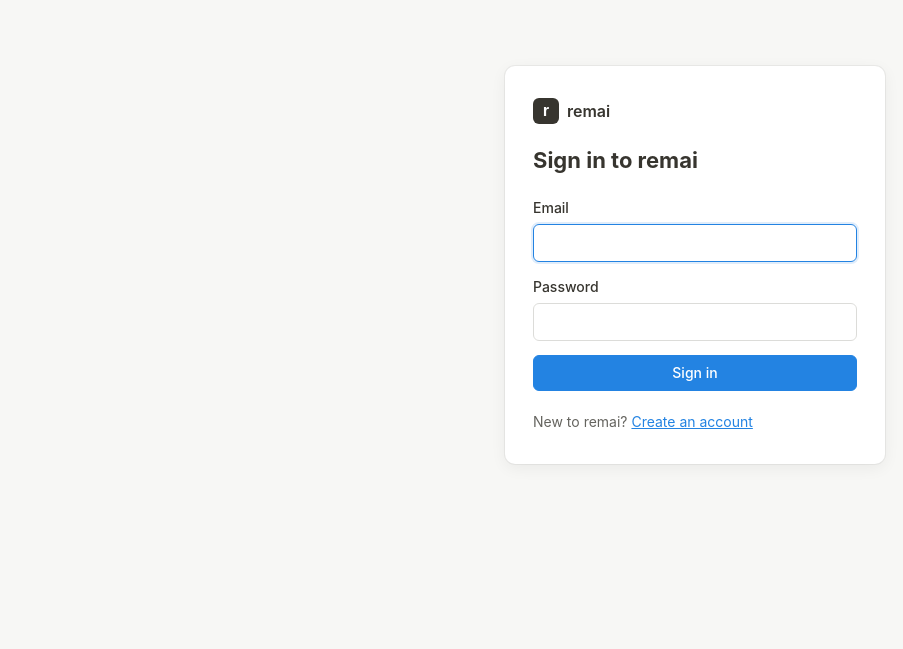
Test: Addressable pages › Wrong credentials keep the user on the sign-in screen with the server message
The width and height of the screenshot is (903, 649).
Type "ada@example.com" into the field labelled "Email" at (695, 243), box [533,224,857,262]
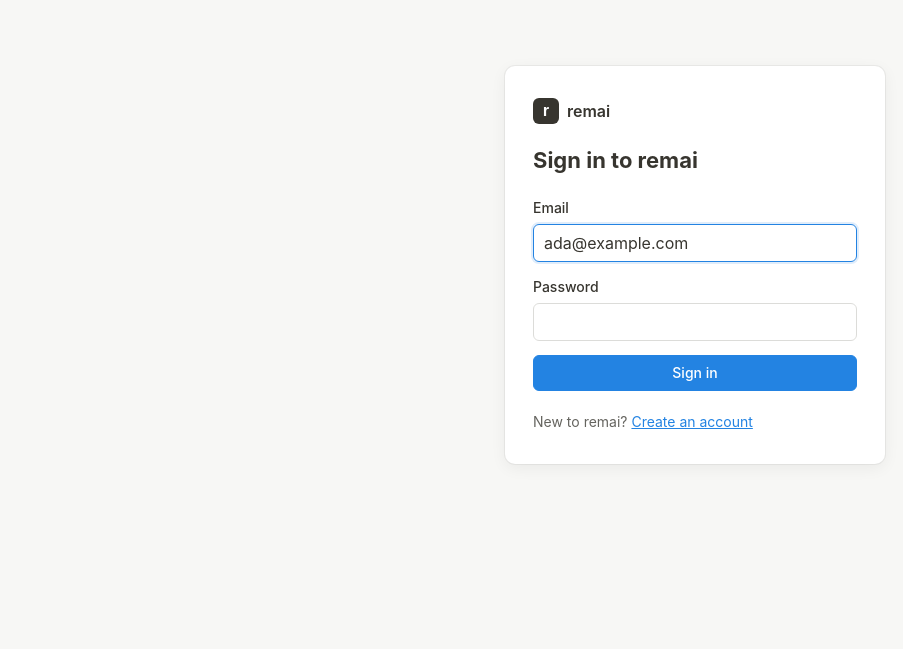
Type "wrong-password" into the password field labelled "Password" at (695, 322), box [533,303,857,341]
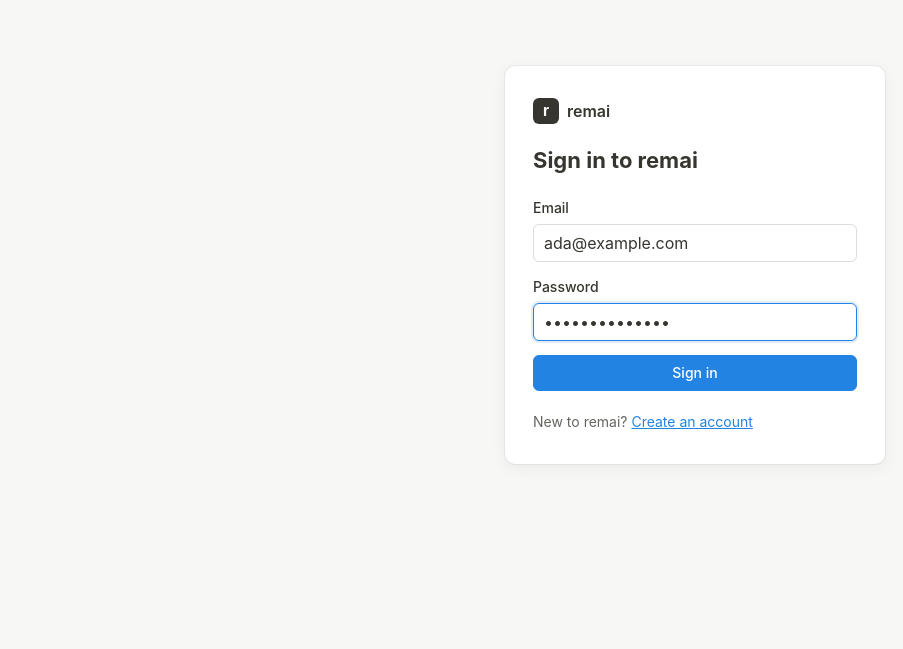
Click the button "Sign in" at (695, 373), box [533,355,857,391]
(page scrolled)
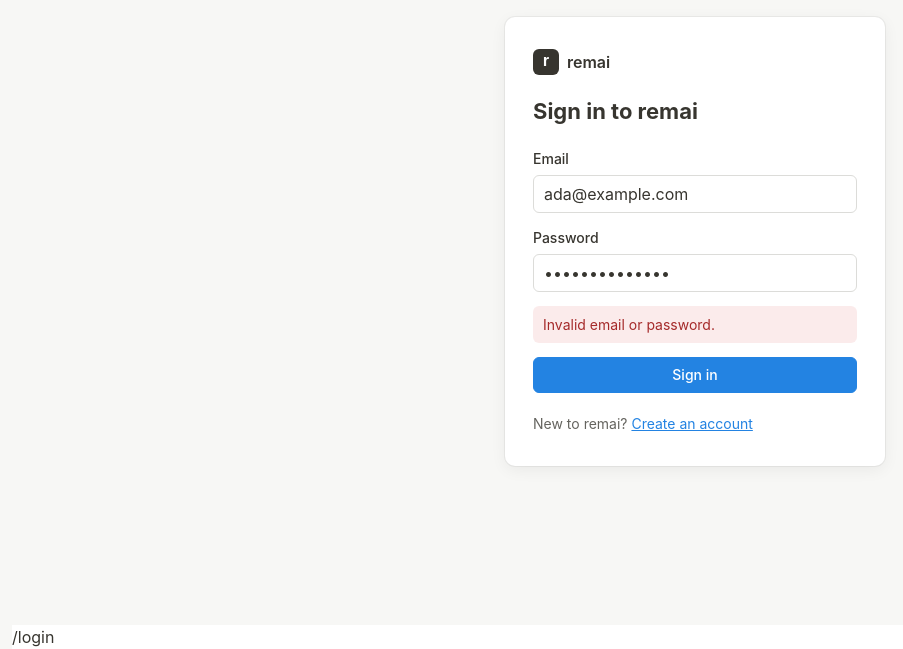
Check: the text with test id "location" reads "/login", box [12,627,54,647]
Check: the message reads "Invalid email or password.", box [543,316,715,332]
